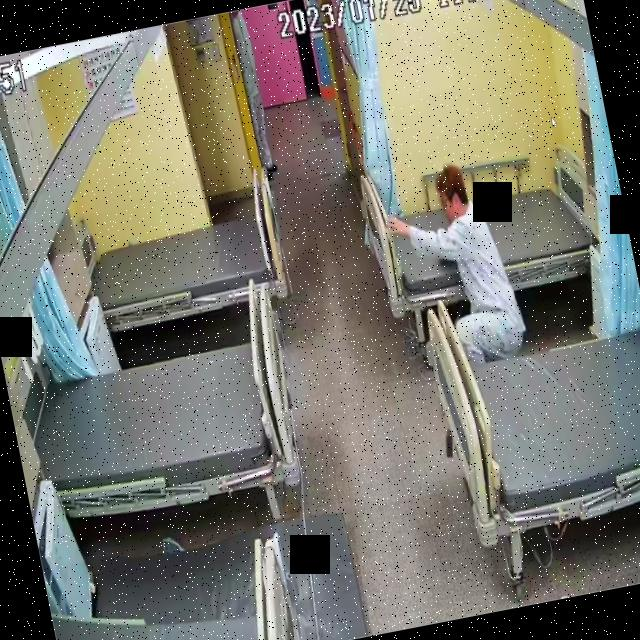bed: (419, 263, 640, 545), (20, 326, 307, 526), (360, 158, 612, 320), (84, 200, 288, 332)
danger: (378, 154, 544, 386)
patient: (380, 157, 543, 388)
